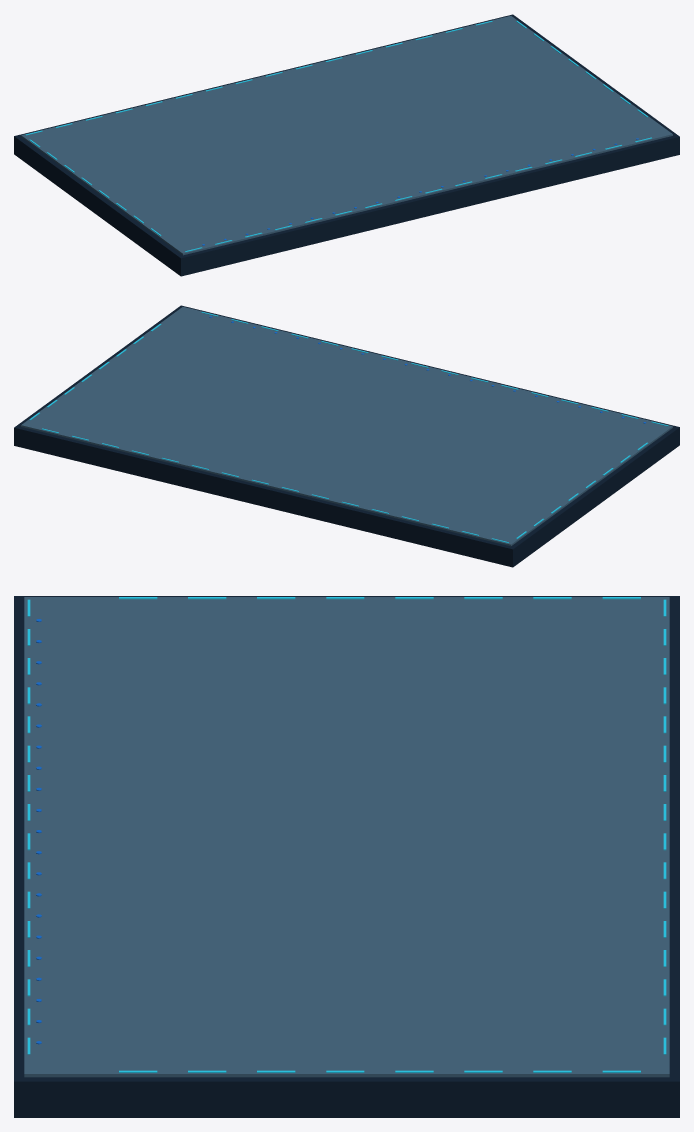
The model's file is 00_L69_IndustrialColdChainBase.fbx.
3 views of the same model, one above another, from view 1: azimuth 30°, elevation 25°; view 2: azimuth 150°, elevation 25°; view 3: azimuth 270°, elevation 25° (orthographic). The views are drawn at different scales.
Visible parts, largest first — view 1: IndustrialColdChainBase; view 2: IndustrialColdChainBase; view 3: IndustrialColdChainBase.
Part boxes in pixels (<box>): IndustrialColdChainBase: <box>14,14,679,276</box>; IndustrialColdChainBase: <box>14,305,679,567</box>; IndustrialColdChainBase: <box>14,596,679,1117</box>.
Size of the model in its own units: 1380 by 53.85 by 800.
